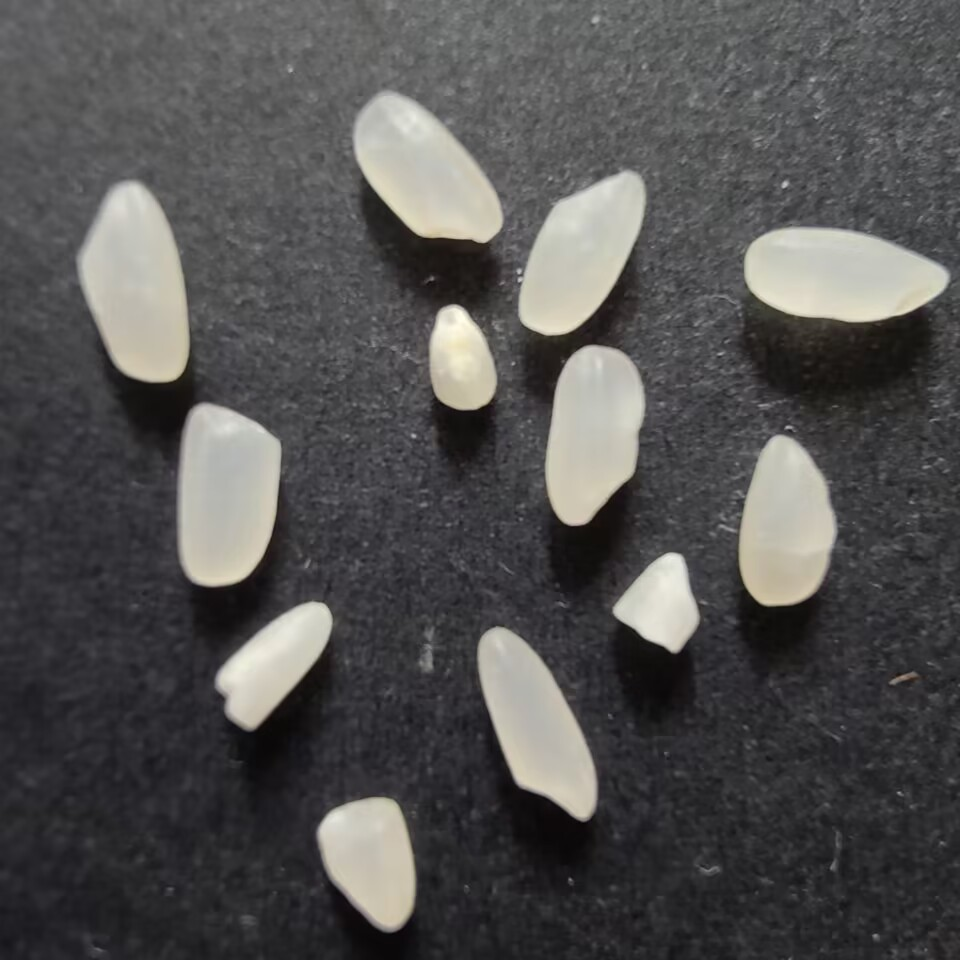broken: (211, 598, 339, 731), (310, 797, 419, 937), (608, 547, 705, 657), (426, 302, 501, 417)
rice: (472, 623, 600, 825), (73, 175, 191, 390), (350, 88, 508, 245), (514, 166, 648, 338), (740, 223, 952, 323), (175, 399, 285, 591), (543, 340, 647, 531), (737, 431, 838, 609)
